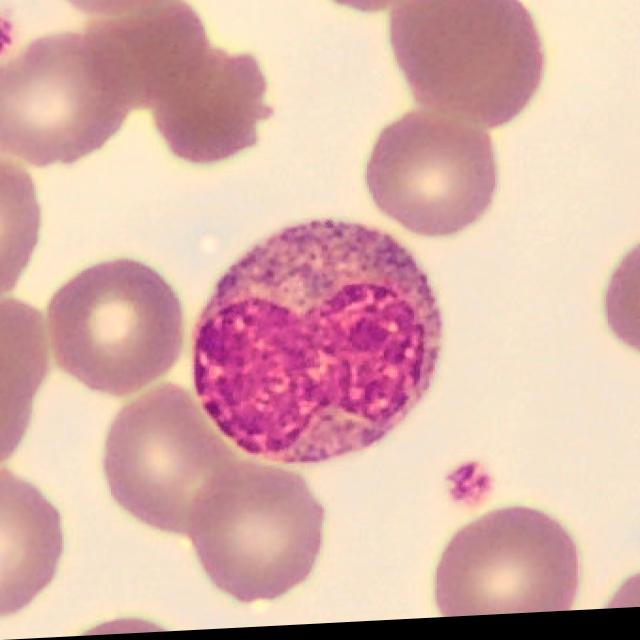Metamielocito: (190, 222, 444, 468)
